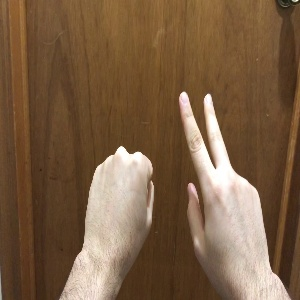hand: (178, 92, 269, 270), (84, 146, 155, 251)
